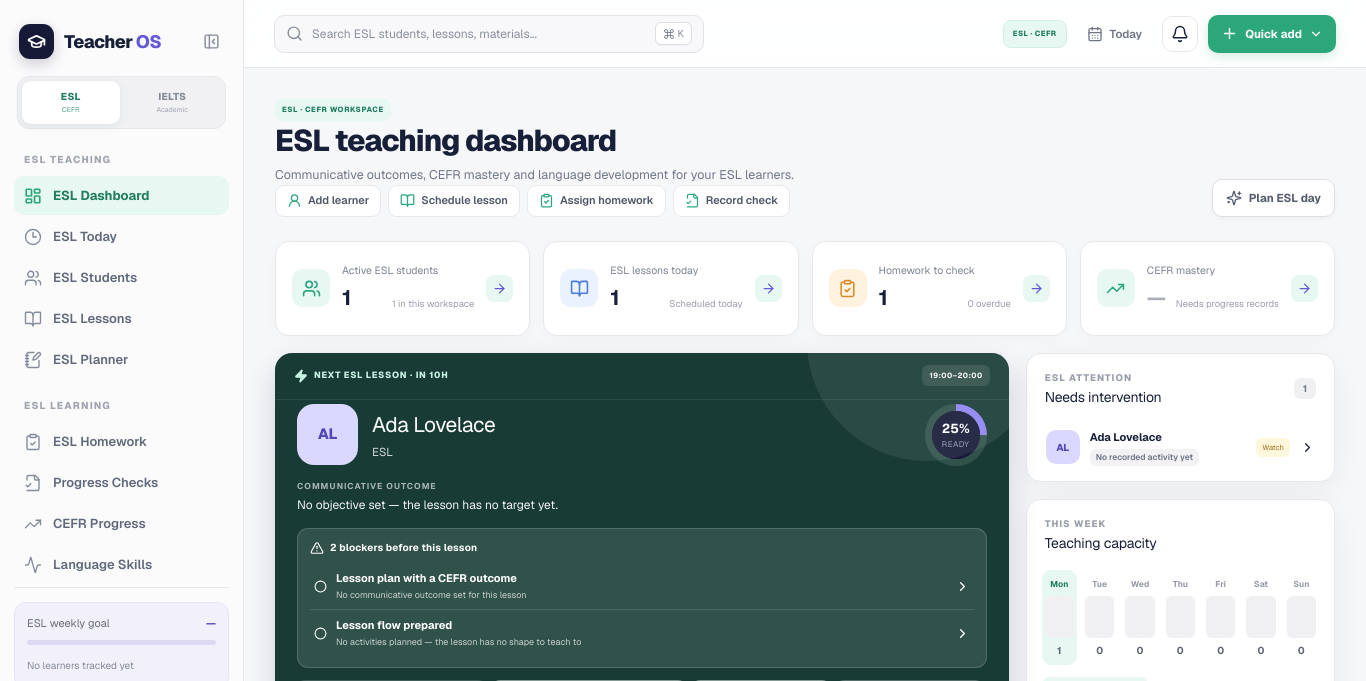
Test: the workspace reaches every teacher-loop screen › opens ESL progress with the mastery entry panel
The image size is (1366, 681).
Click the button "CEFR Progress" at (122, 524), box top-left (14, 504), bottom-right (229, 543)
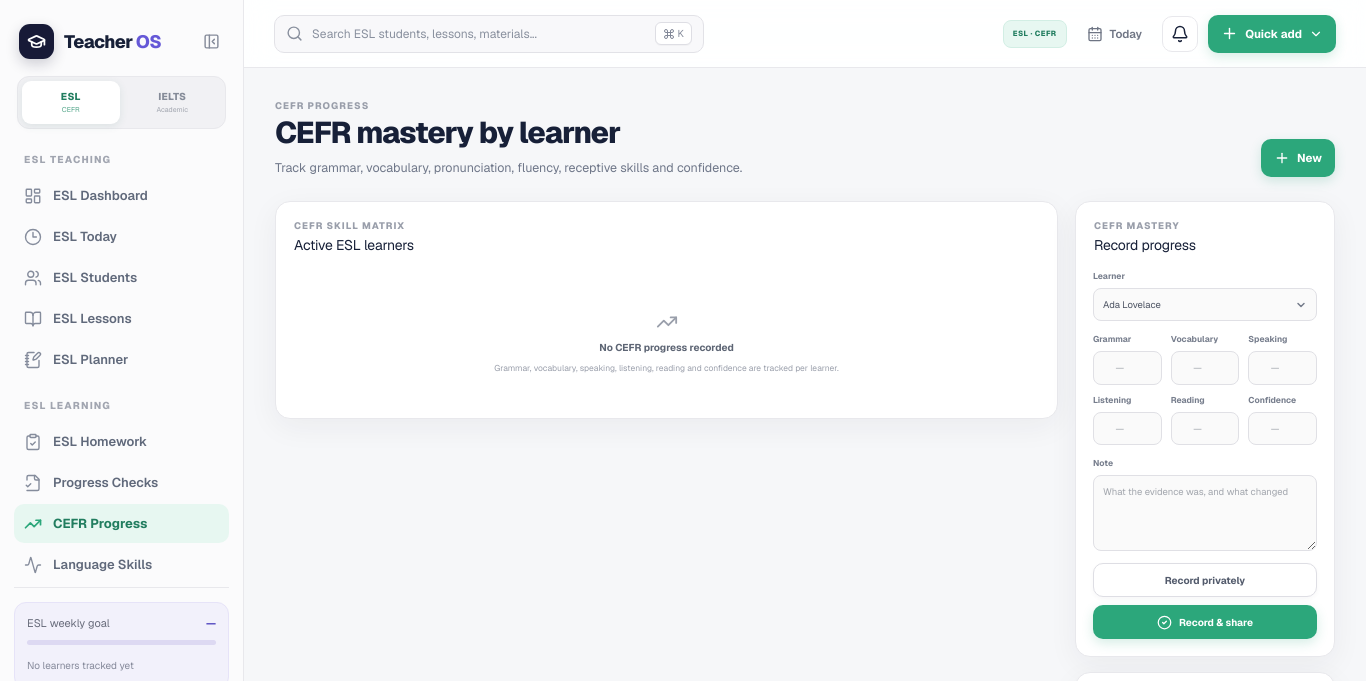
Check: the heading "Record progress" is shown, box top-left (1094, 237), bottom-right (1196, 254)
Check: the number field labelled "Grammar" is shown, box top-left (1093, 351), bottom-right (1162, 385)
